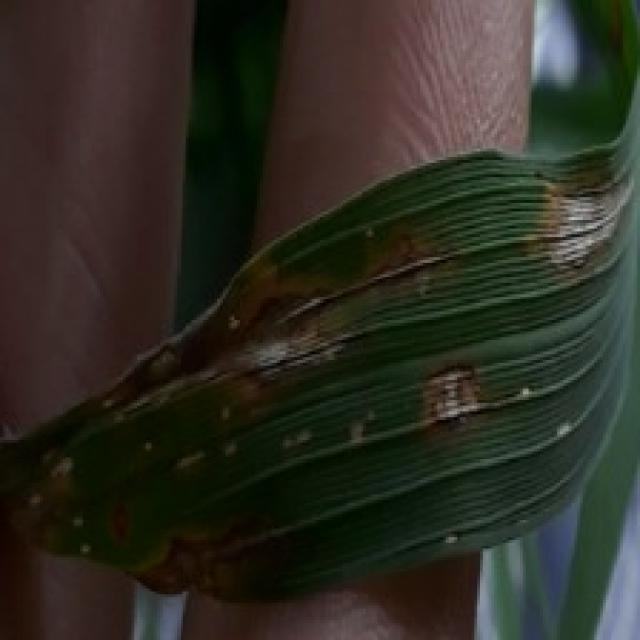Unhealthy: (119, 233, 456, 412), (530, 168, 640, 282), (135, 518, 269, 606), (411, 361, 496, 442), (26, 443, 78, 517), (346, 407, 380, 446), (174, 445, 211, 471), (280, 426, 316, 452), (222, 438, 241, 460)
